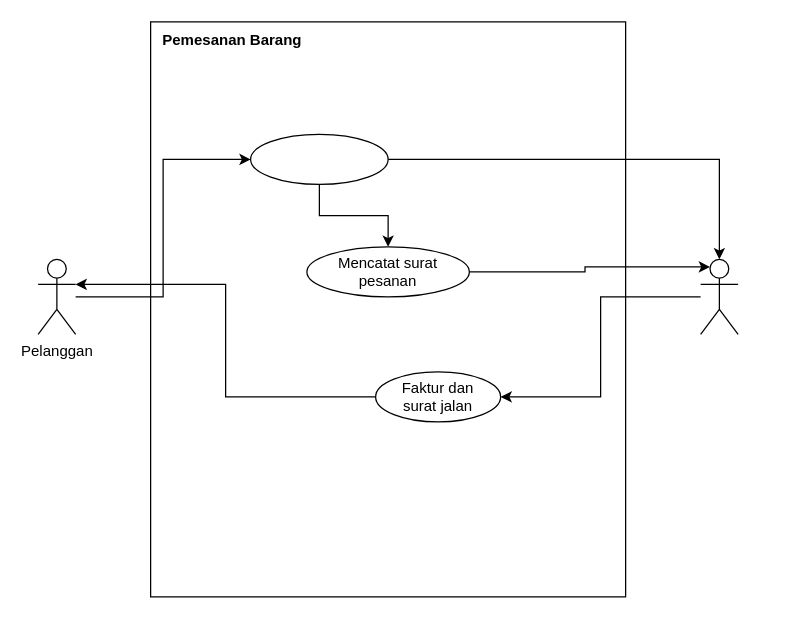
Image size: 800x619. Some labels were removed from this diagram. The shapes that lost their labels are listed below. From the top down, each one's box as (x1, y1, x2, y2) in pixels, then its label:
(249, 133, 388, 184): Surat Pesanan
(699, 258, 738, 334): Bagian Penjualan
